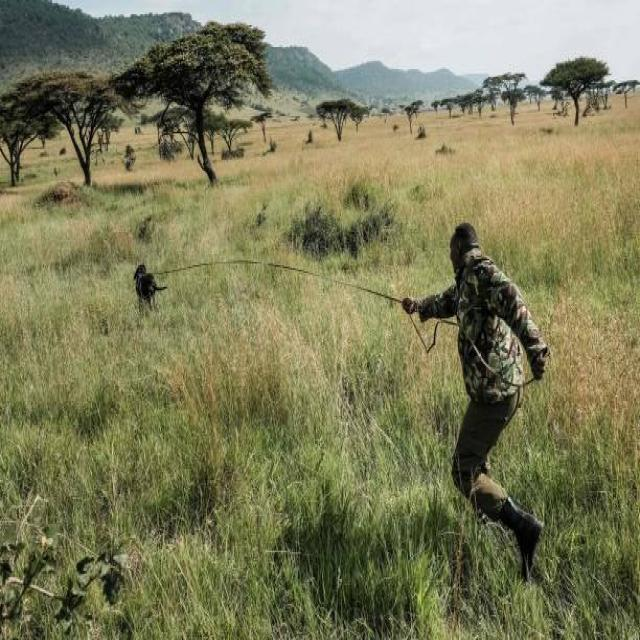p_date: (130, 256, 162, 330)
p_export: (99, 176, 529, 570)
poacher: (399, 196, 566, 593)
